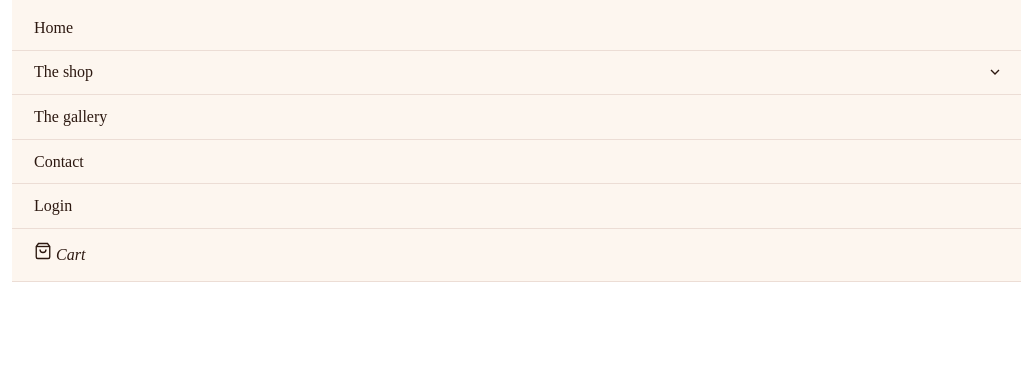
Test: BurgerMenu — подменю Shop › клик на кнопку Shop открывает подменю
Click the button "The shop": (64, 72) [12, 51, 1021, 94]
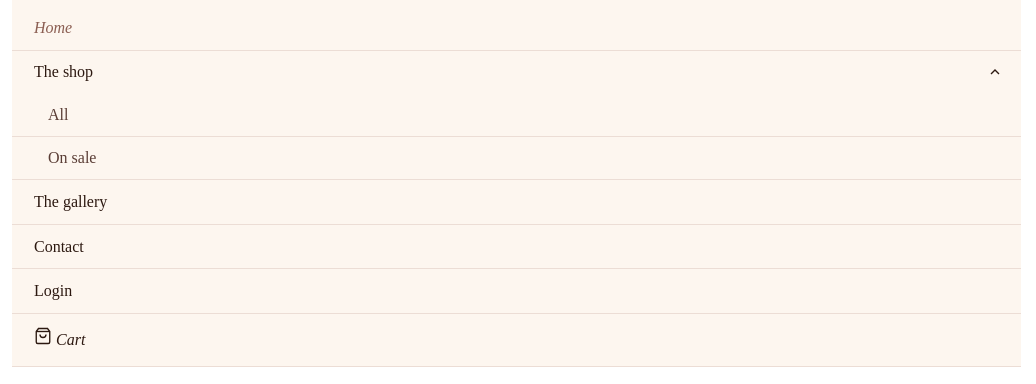
Check: the element with id "shop-submenu" is shown, box [12, 94, 1021, 179]
